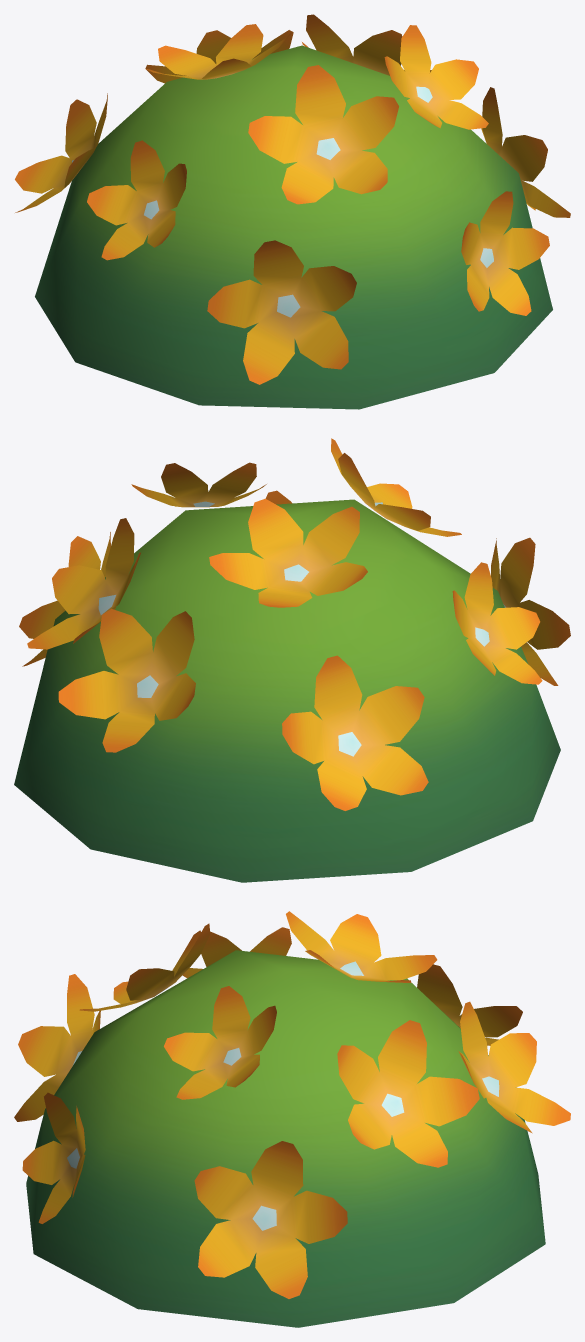
The model's file is flower_018_base_material_0.fbx.
The picture shows the model from 3 angles, top to bottom: view 1: azimuth 30°, elevation 25°; view 2: azimuth 150°, elevation 25°; view 3: azimuth 270°, elevation 25°; orthographic projection. The views are drawn at different scales.
Visible parts, largest first — view 1: flower_018_base_material_0; view 2: flower_018_base_material_0; view 3: flower_018_base_material_0.
Boxes of the visible parts, left/top/right/bottom form: flower_018_base_material_0: left=15, top=14, right=570, bottom=409; flower_018_base_material_0: left=14, top=438, right=570, bottom=882; flower_018_base_material_0: left=14, top=911, right=570, bottom=1327.
Size of the model in its own units: 2.08 by 2.07 by 1.15.
1 material, 1 textured.
